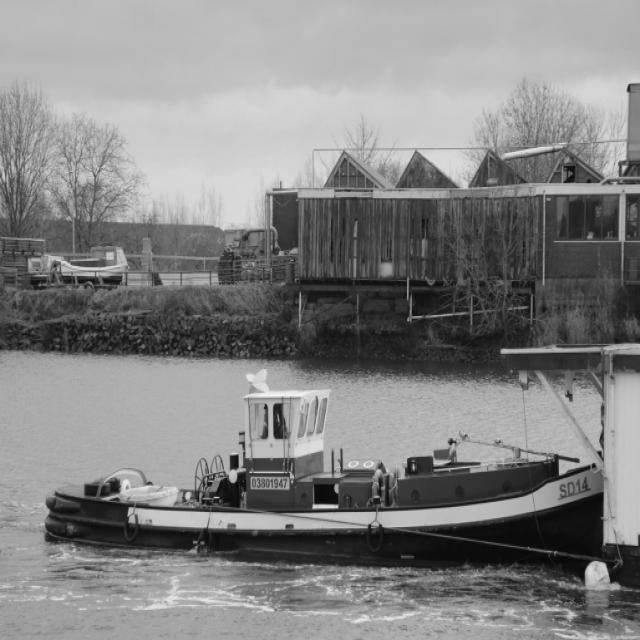tugboat: (41, 365, 610, 601)
